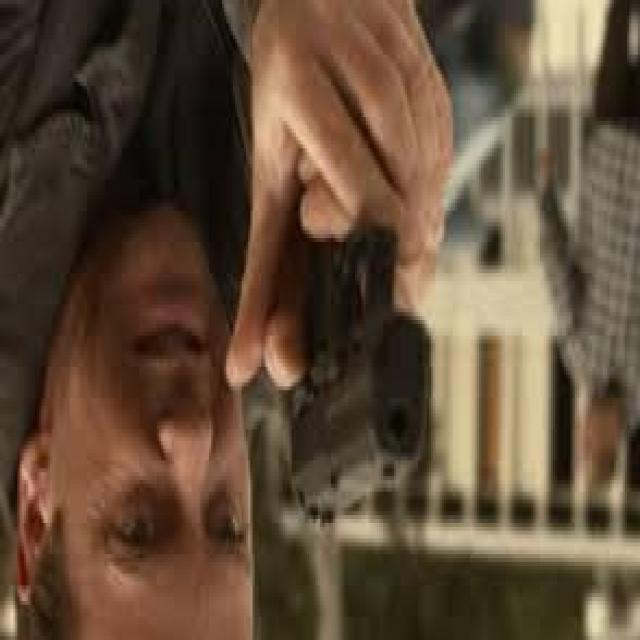gun: (248, 160, 468, 550)
